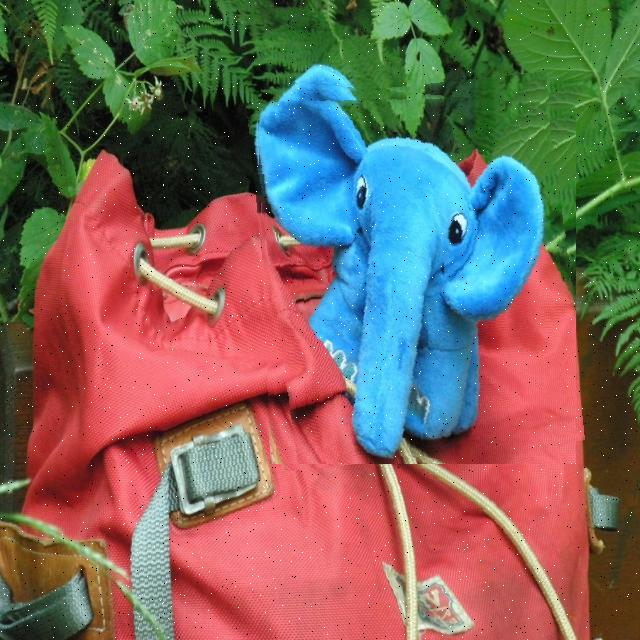elephant: (256, 79, 576, 464)
